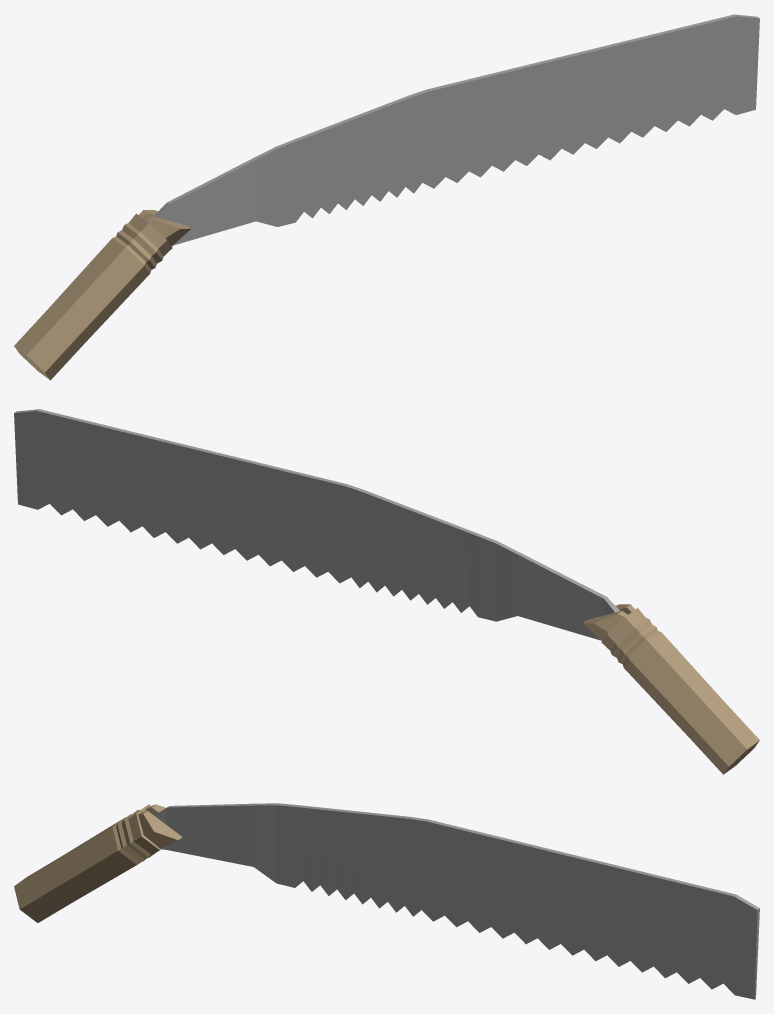
Rendered from Saw.fbx.
The picture shows the model from 3 angles, top to bottom: view 1: azimuth 30°, elevation 25°; view 2: azimuth 150°, elevation 25°; view 3: azimuth 330°, elevation 25°; orthographic projection.
Visible parts, largest first — view 1: Nokogiri; view 2: Nokogiri; view 3: Nokogiri.
Part boxes in pixels (x1,y1,x2,y2): Nokogiri: (14, 14, 759, 380); Nokogiri: (14, 409, 759, 774); Nokogiri: (14, 803, 759, 999).
Bounding box in the file's own units: 66.96 × 16.61 × 4.13.
